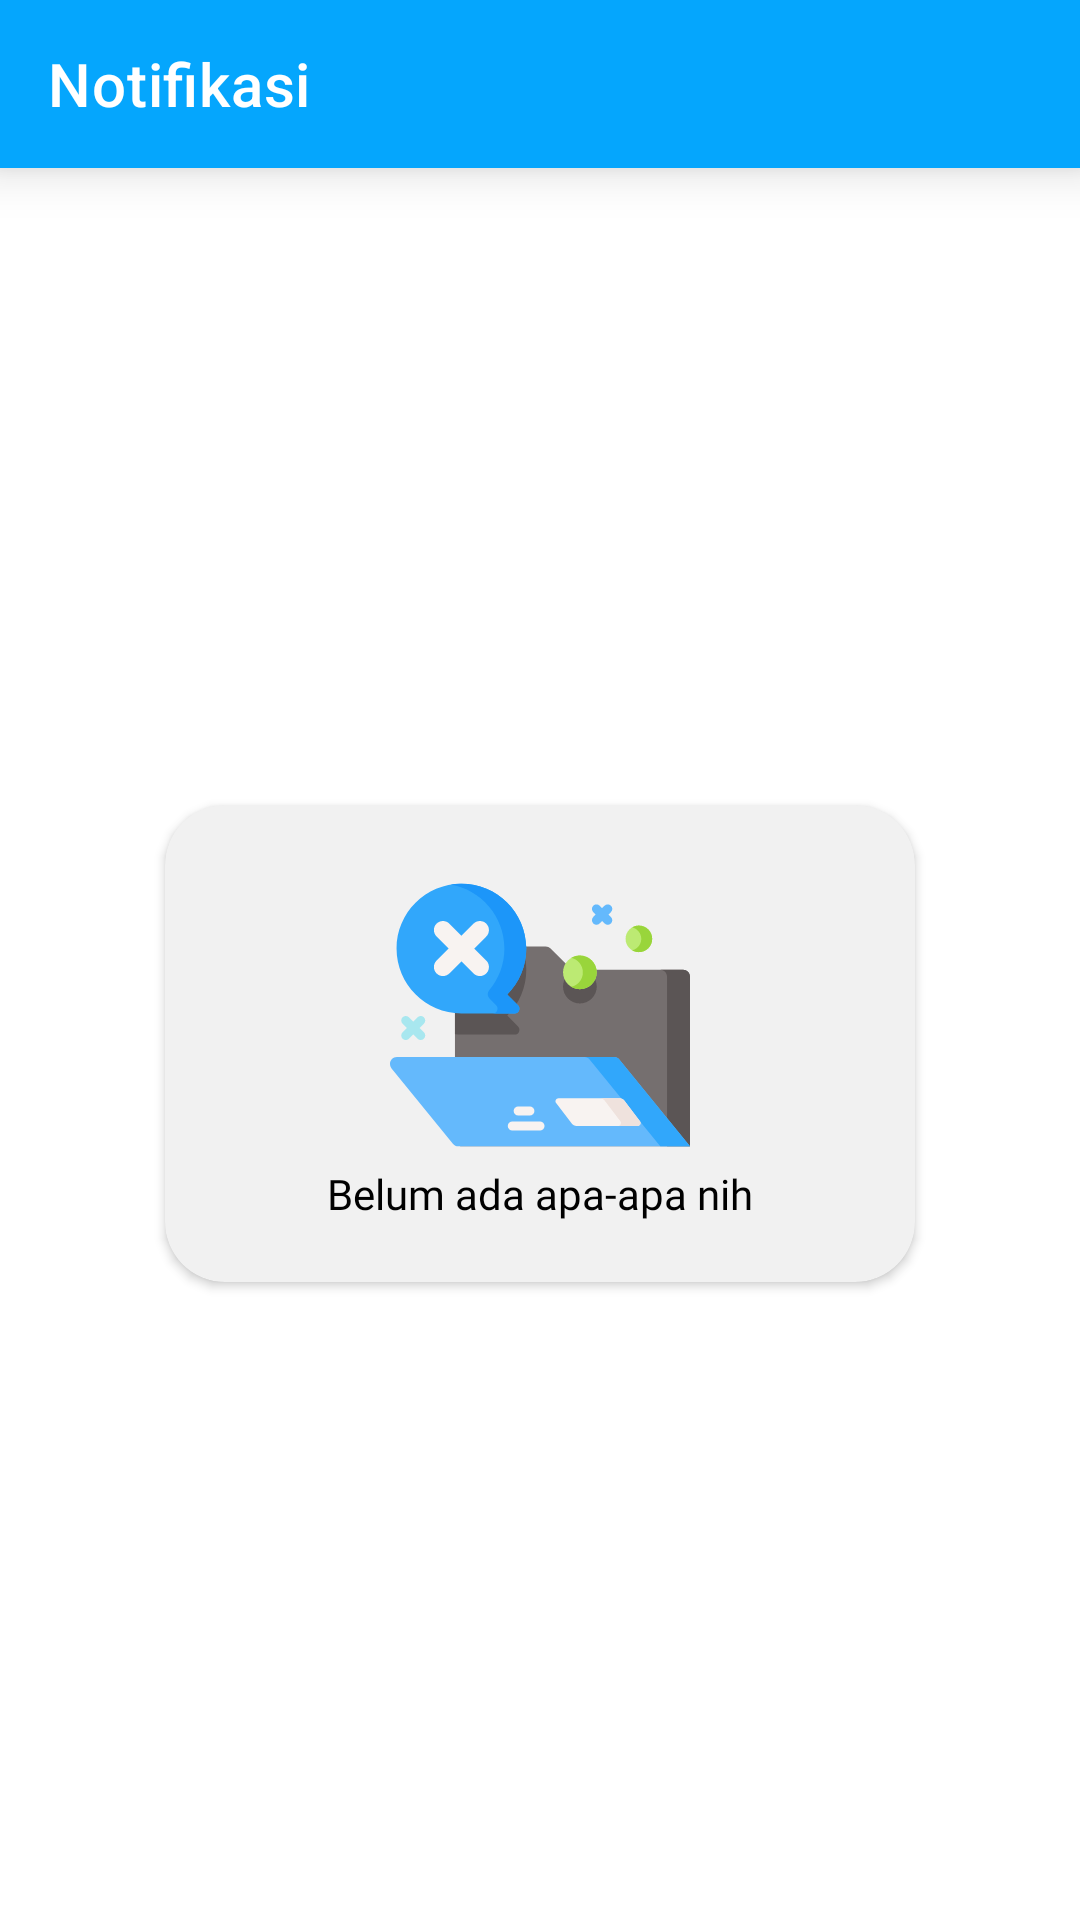

Screen size 1080*1920. Icon name, then its center in pixels as (x=x, y=y):
folder: (x=540, y=1015)
